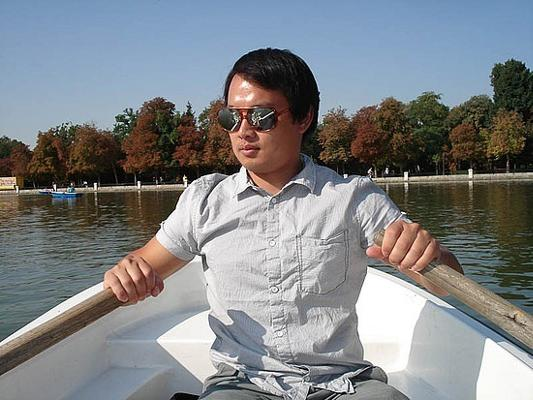person: (103, 49, 465, 400)
